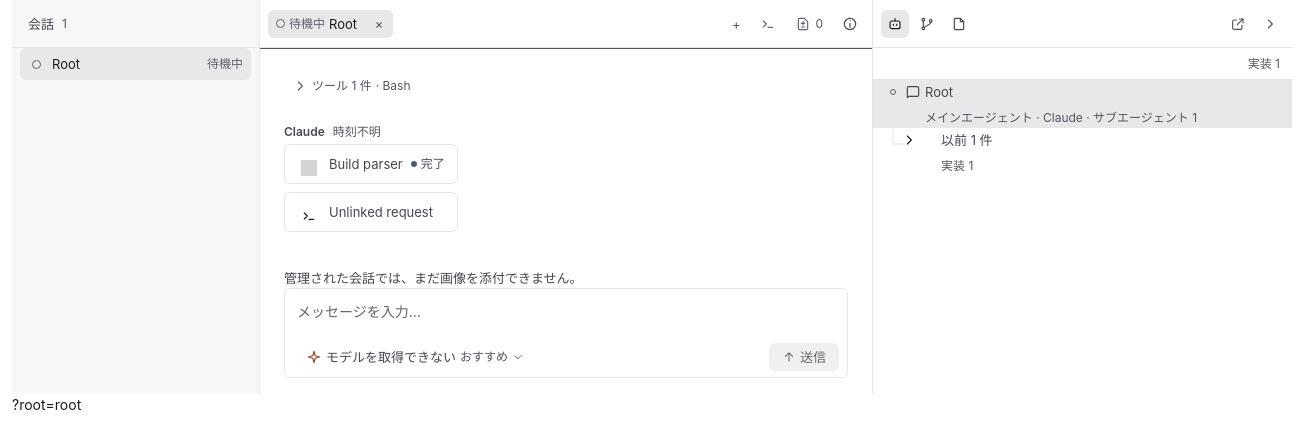
keeps Agent requests outside tool folds and navigates to the same child as the tree
Expected: the button "Unlinked request" is disabled, x1=284 y1=192 x2=458 y2=232
Expected: the element titled "Codex" is shown, x1=301 y1=208 x2=317 y2=224
Click the button "Build parser 完了".
click(371, 164)  # box x1=284 y1=144 x2=458 y2=184
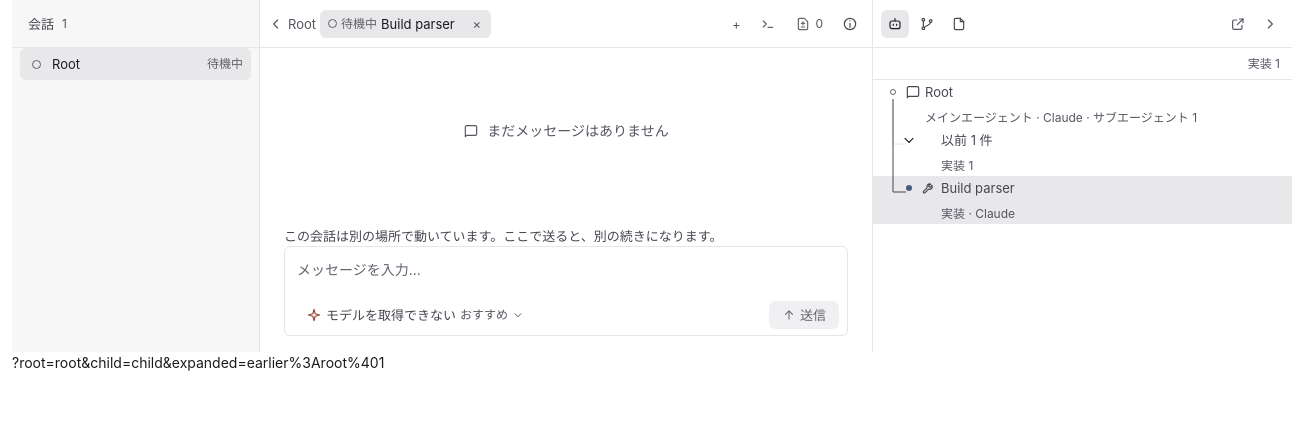
Now the text with test id "url" shows "child=child", box x1=12 y1=354 x2=384 y2=371
